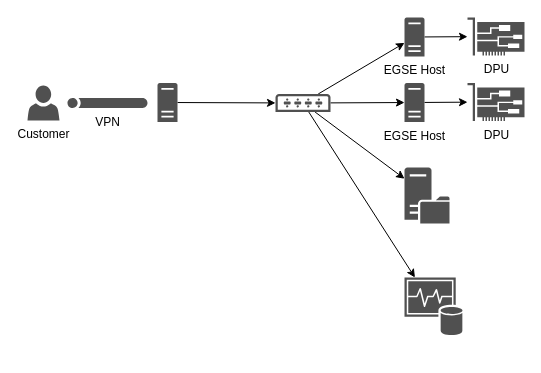
This 541x373 diagram has some shape labels left out. The box of each missing label's shape, as (x1, y1, x2, y2) in pixels:
Grafana: (404, 277, 462, 335)
NAS: (404, 167, 449, 223)
VPN Gateway: (157, 82, 177, 122)
